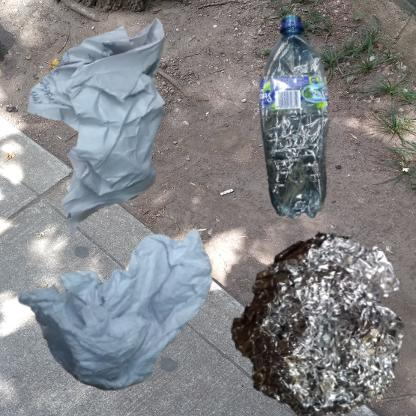aluminio: (213, 213, 416, 416)
botella: (213, 10, 416, 275)
papel: (10, 10, 222, 252), (10, 213, 219, 401)
